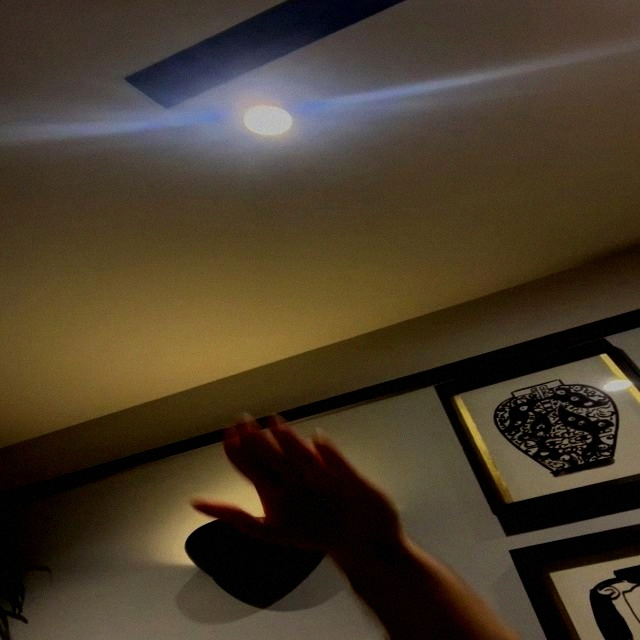Paper: (189, 415, 408, 561)
